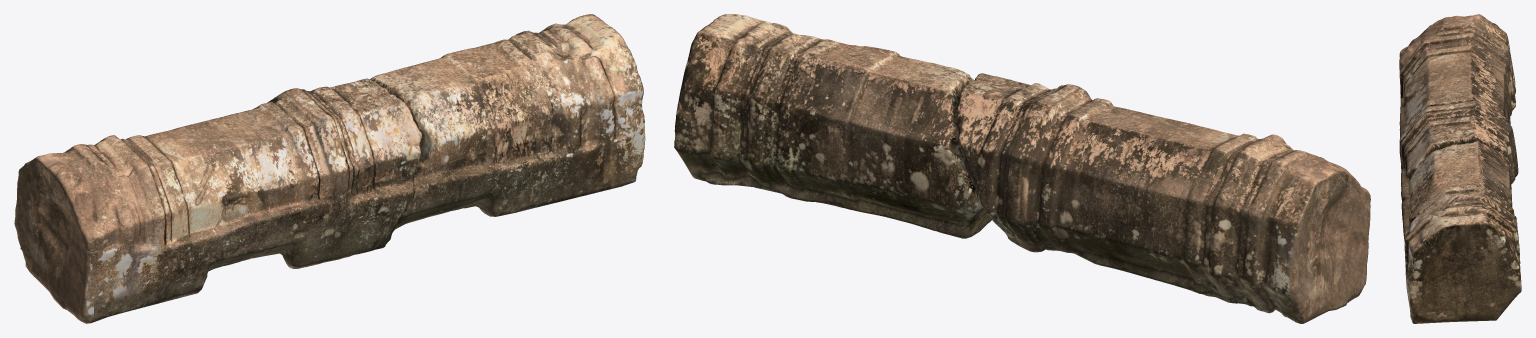
Rendered from 31_MysonSanctuaryB_Trucot_final.glb.
3 renders of one model, left to right at view 1: azimuth 30°, elevation 25°; view 2: azimuth 150°, elevation 25°; view 3: azimuth 270°, elevation 25°, orthographic. The views are drawn at different scales.
Size of the model in its own units: 2.8 by 0.6793 by 0.6796.
1 material, 1 textured.
